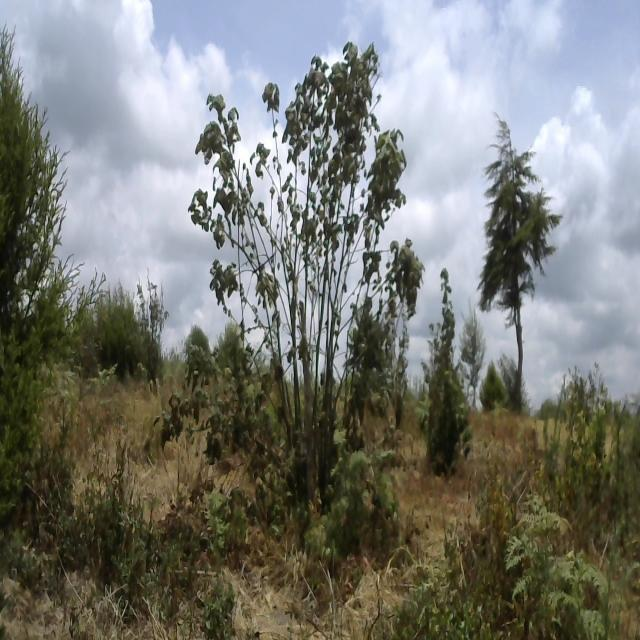cedrus: (0, 18, 93, 516), (482, 107, 563, 397), (454, 282, 488, 409)
other: (190, 49, 428, 496)
